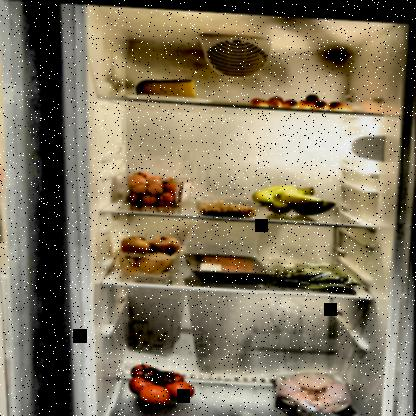banana: (251, 179, 339, 215)
beef: (199, 252, 264, 272)
carrot: (250, 85, 361, 110)
cheese: (135, 73, 197, 100)
chicken: (272, 364, 361, 415)
green_beans: (269, 255, 366, 290)
onion: (116, 230, 178, 273)
shrimp: (197, 196, 257, 217)
strawberries: (124, 168, 192, 204)
tomato: (127, 357, 197, 407)
